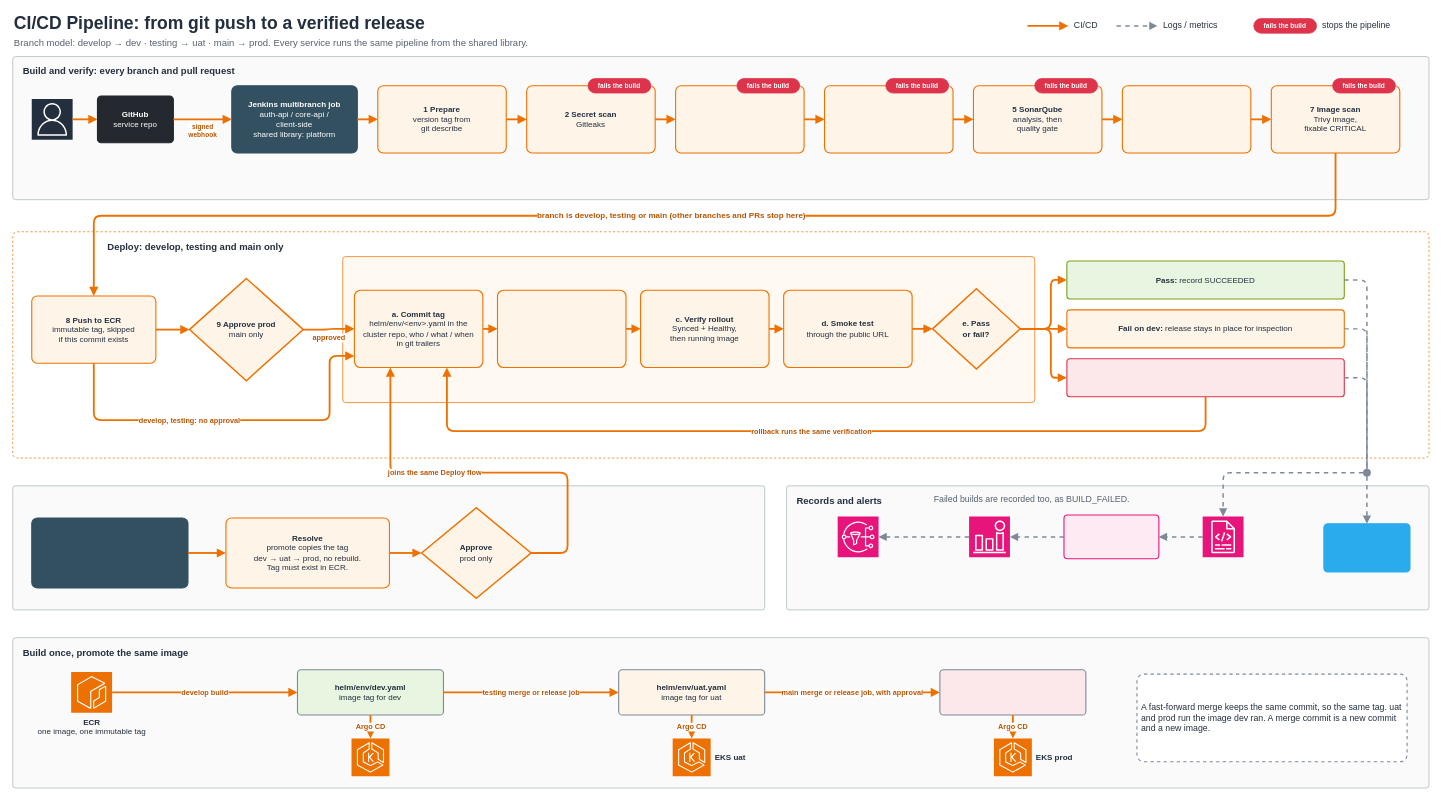
The diagram is 1442 pixels wide and 801 high, and some of its shapes have lost their labels. The shapes that lost their labels are listed below. From the top down, each one's box as (x1, y1, x2, y2) in pixels, then its label:
(31, 98, 73, 140): Developer git push
(675, 85, 804, 153): 3 Unit tests npm ci + test:cov
(824, 85, 953, 153): 4 Dependency scan Trivy fs, fixable CRITICAL
(1121, 85, 1251, 153): 6 Build image docker build with build labels
(497, 289, 626, 368): b. Argo CD sync dev, uat: auto-sync prod: Jenkins triggers it
(342, 256, 1035, 403): 10 Deploy
(1066, 358, 1345, 397): Fail on uat or prod: automatic rollback, commit the previous tag
(31, 517, 188, 588): Jenkins release job SERVICE · TARGET · ACTION = promote or rollback
(12, 485, 765, 610): release job: manual, Build with Parameters
(837, 516, 879, 557): SNS email
(968, 516, 1010, 557): Alarm deployment-failed
(1063, 514, 1159, 559): Metric filter failure statuses
(1202, 516, 1244, 557): CloudWatch Logs /upskill-devops/deployments
(1323, 523, 1410, 572): Telegram every build result
(939, 669, 1086, 715): helm/env/prod.yaml image tag for prod
(351, 738, 389, 776): EKS dev
